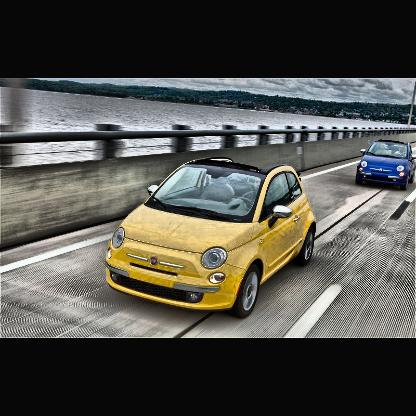FIAT 500 Convertible 2012: (105, 156, 320, 321)
